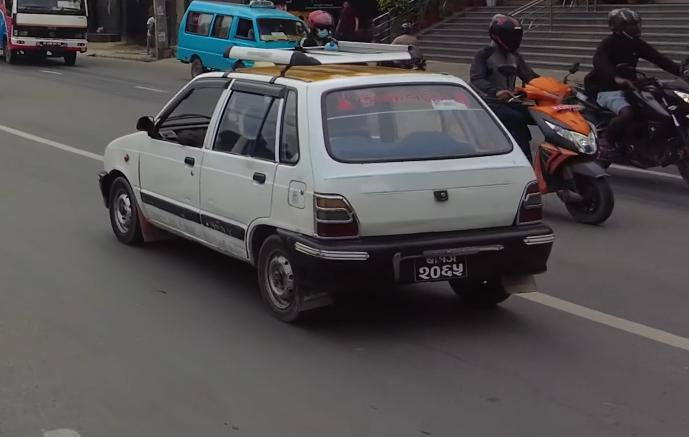bike: (578, 55, 689, 182)
bus: (0, 0, 92, 71)
scooter: (492, 61, 622, 230)
taxi: (96, 59, 553, 333)
